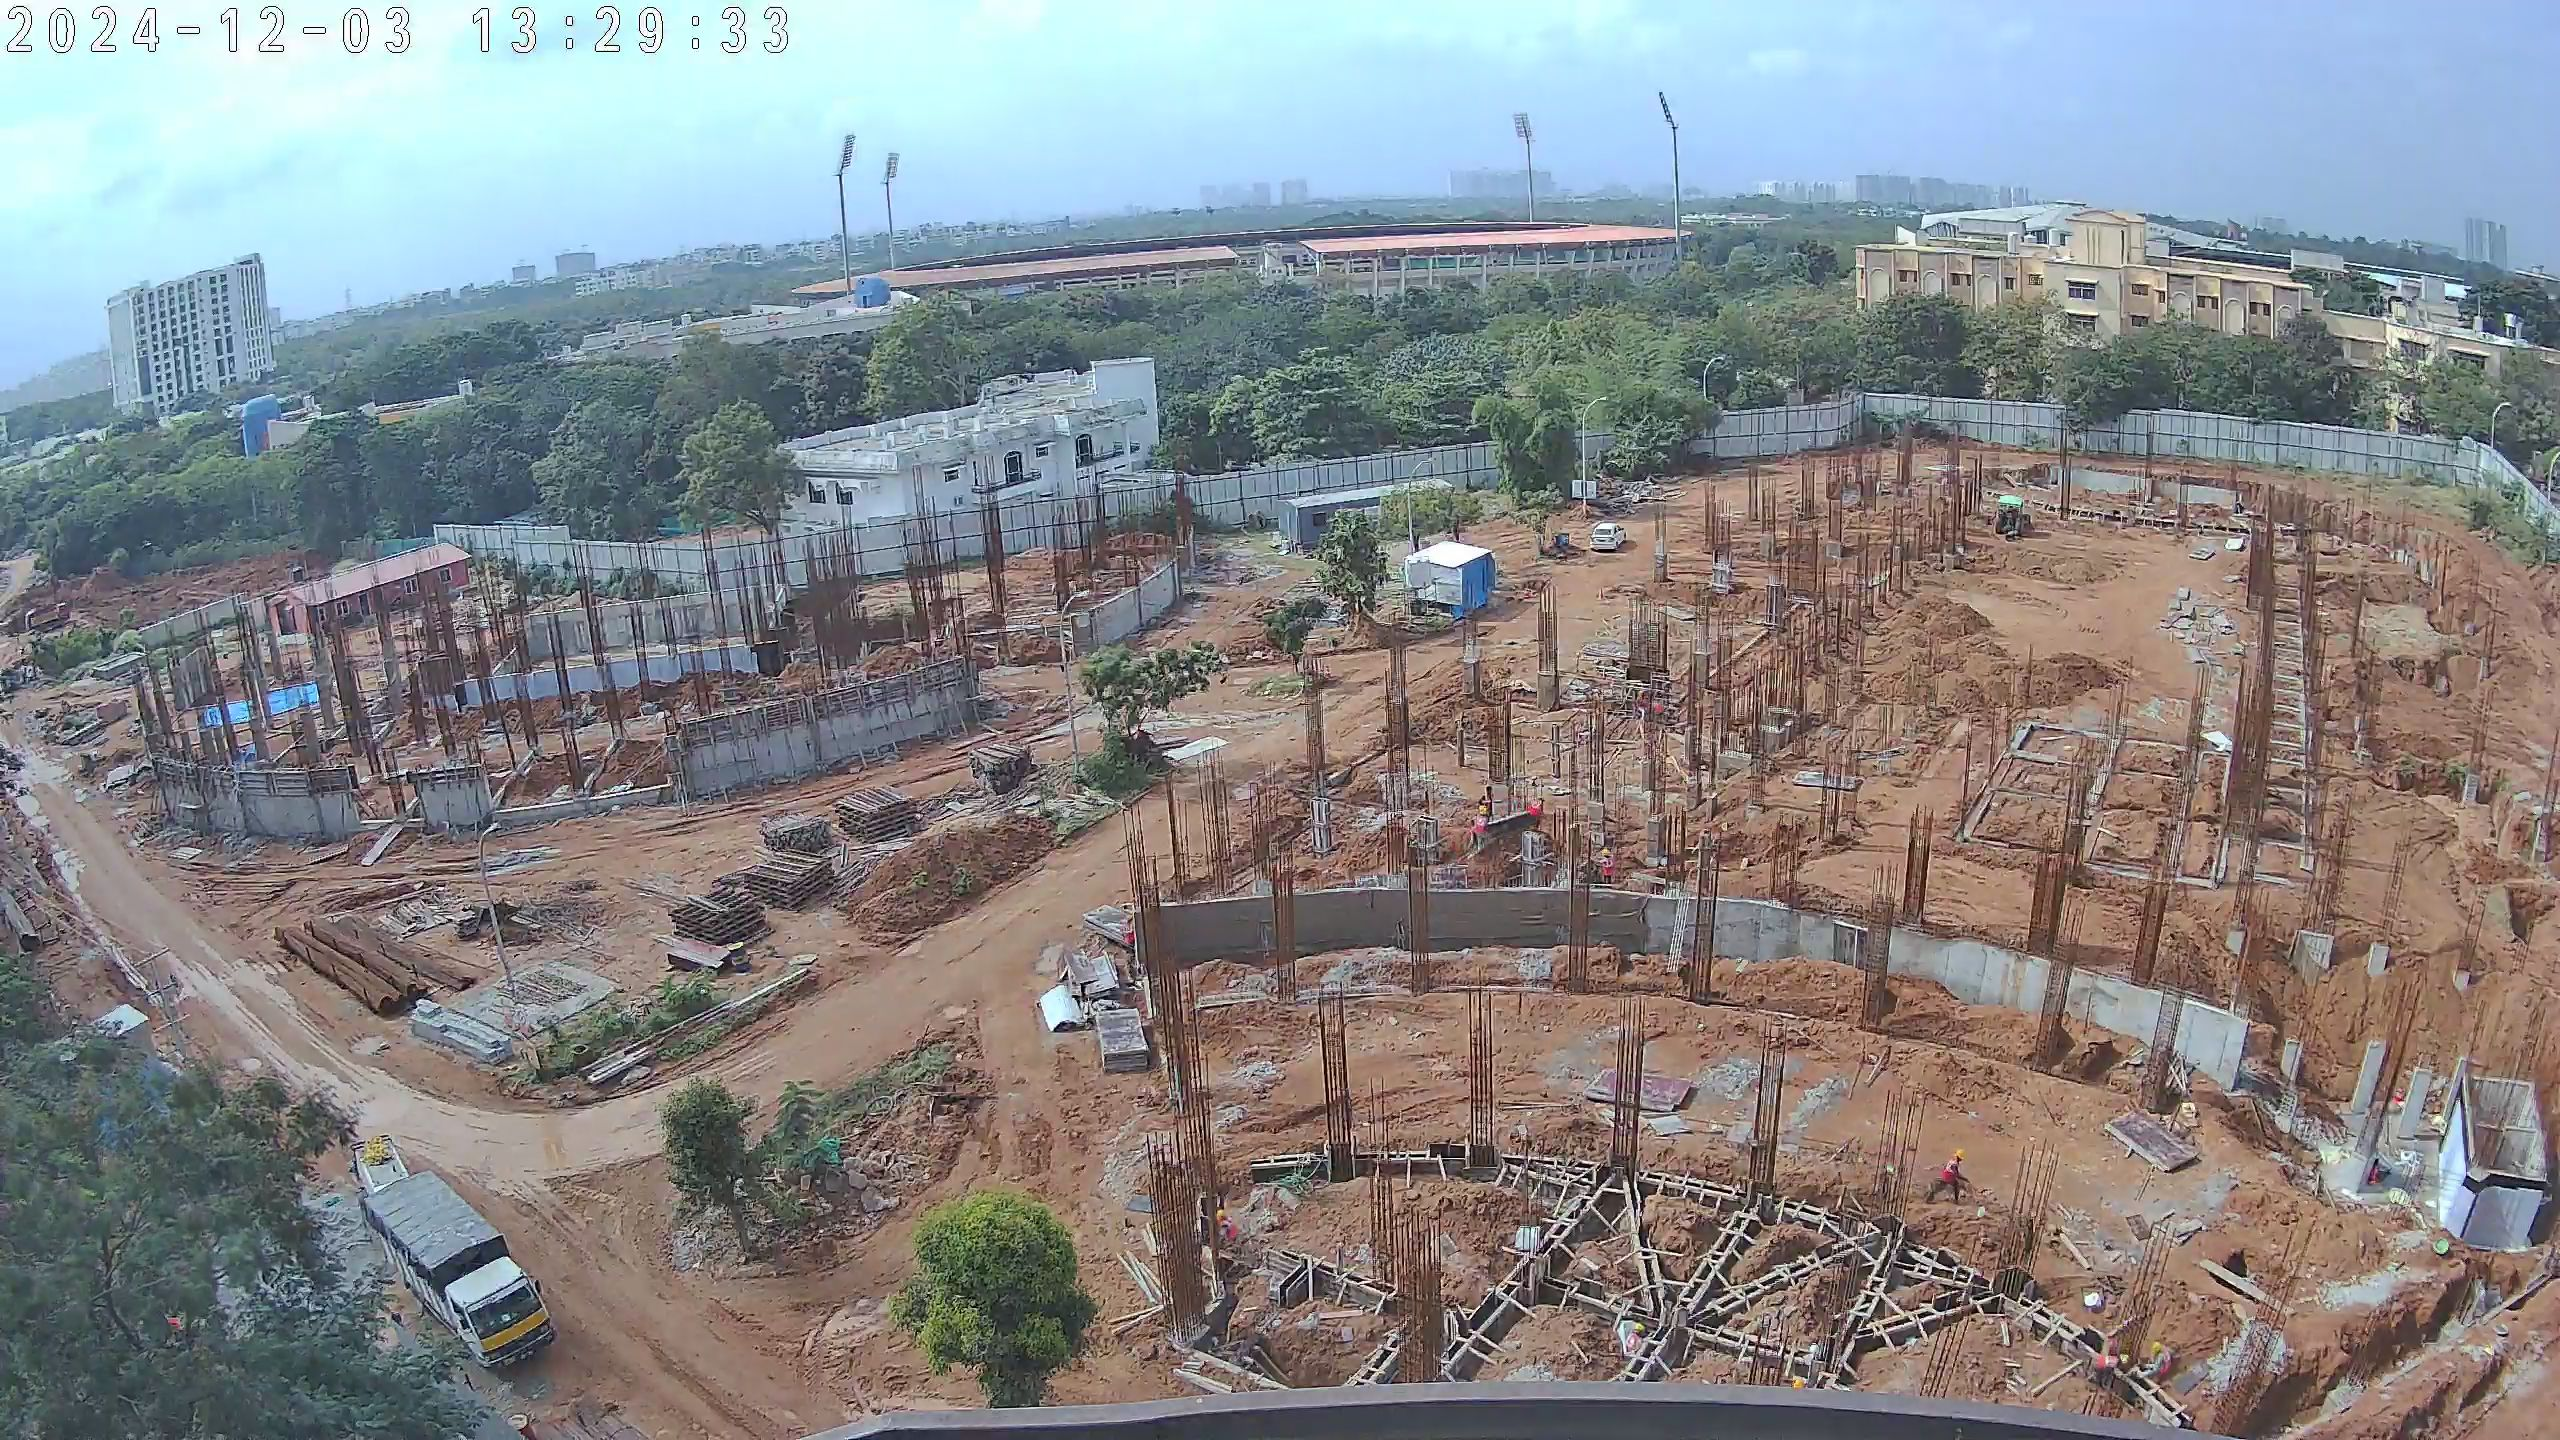bulldozer: (1989, 485, 2039, 546)
car: (1587, 522, 1629, 556)
truck: (347, 1135, 556, 1370)
worker: (2089, 1343, 2168, 1397), (1924, 1149, 1968, 1202), (1516, 789, 1550, 841), (1466, 802, 1494, 860), (1212, 1204, 1242, 1251), (1593, 845, 1620, 897), (1476, 781, 1500, 822)
